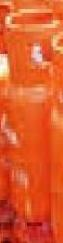cylinder: (0, 1, 63, 243)
